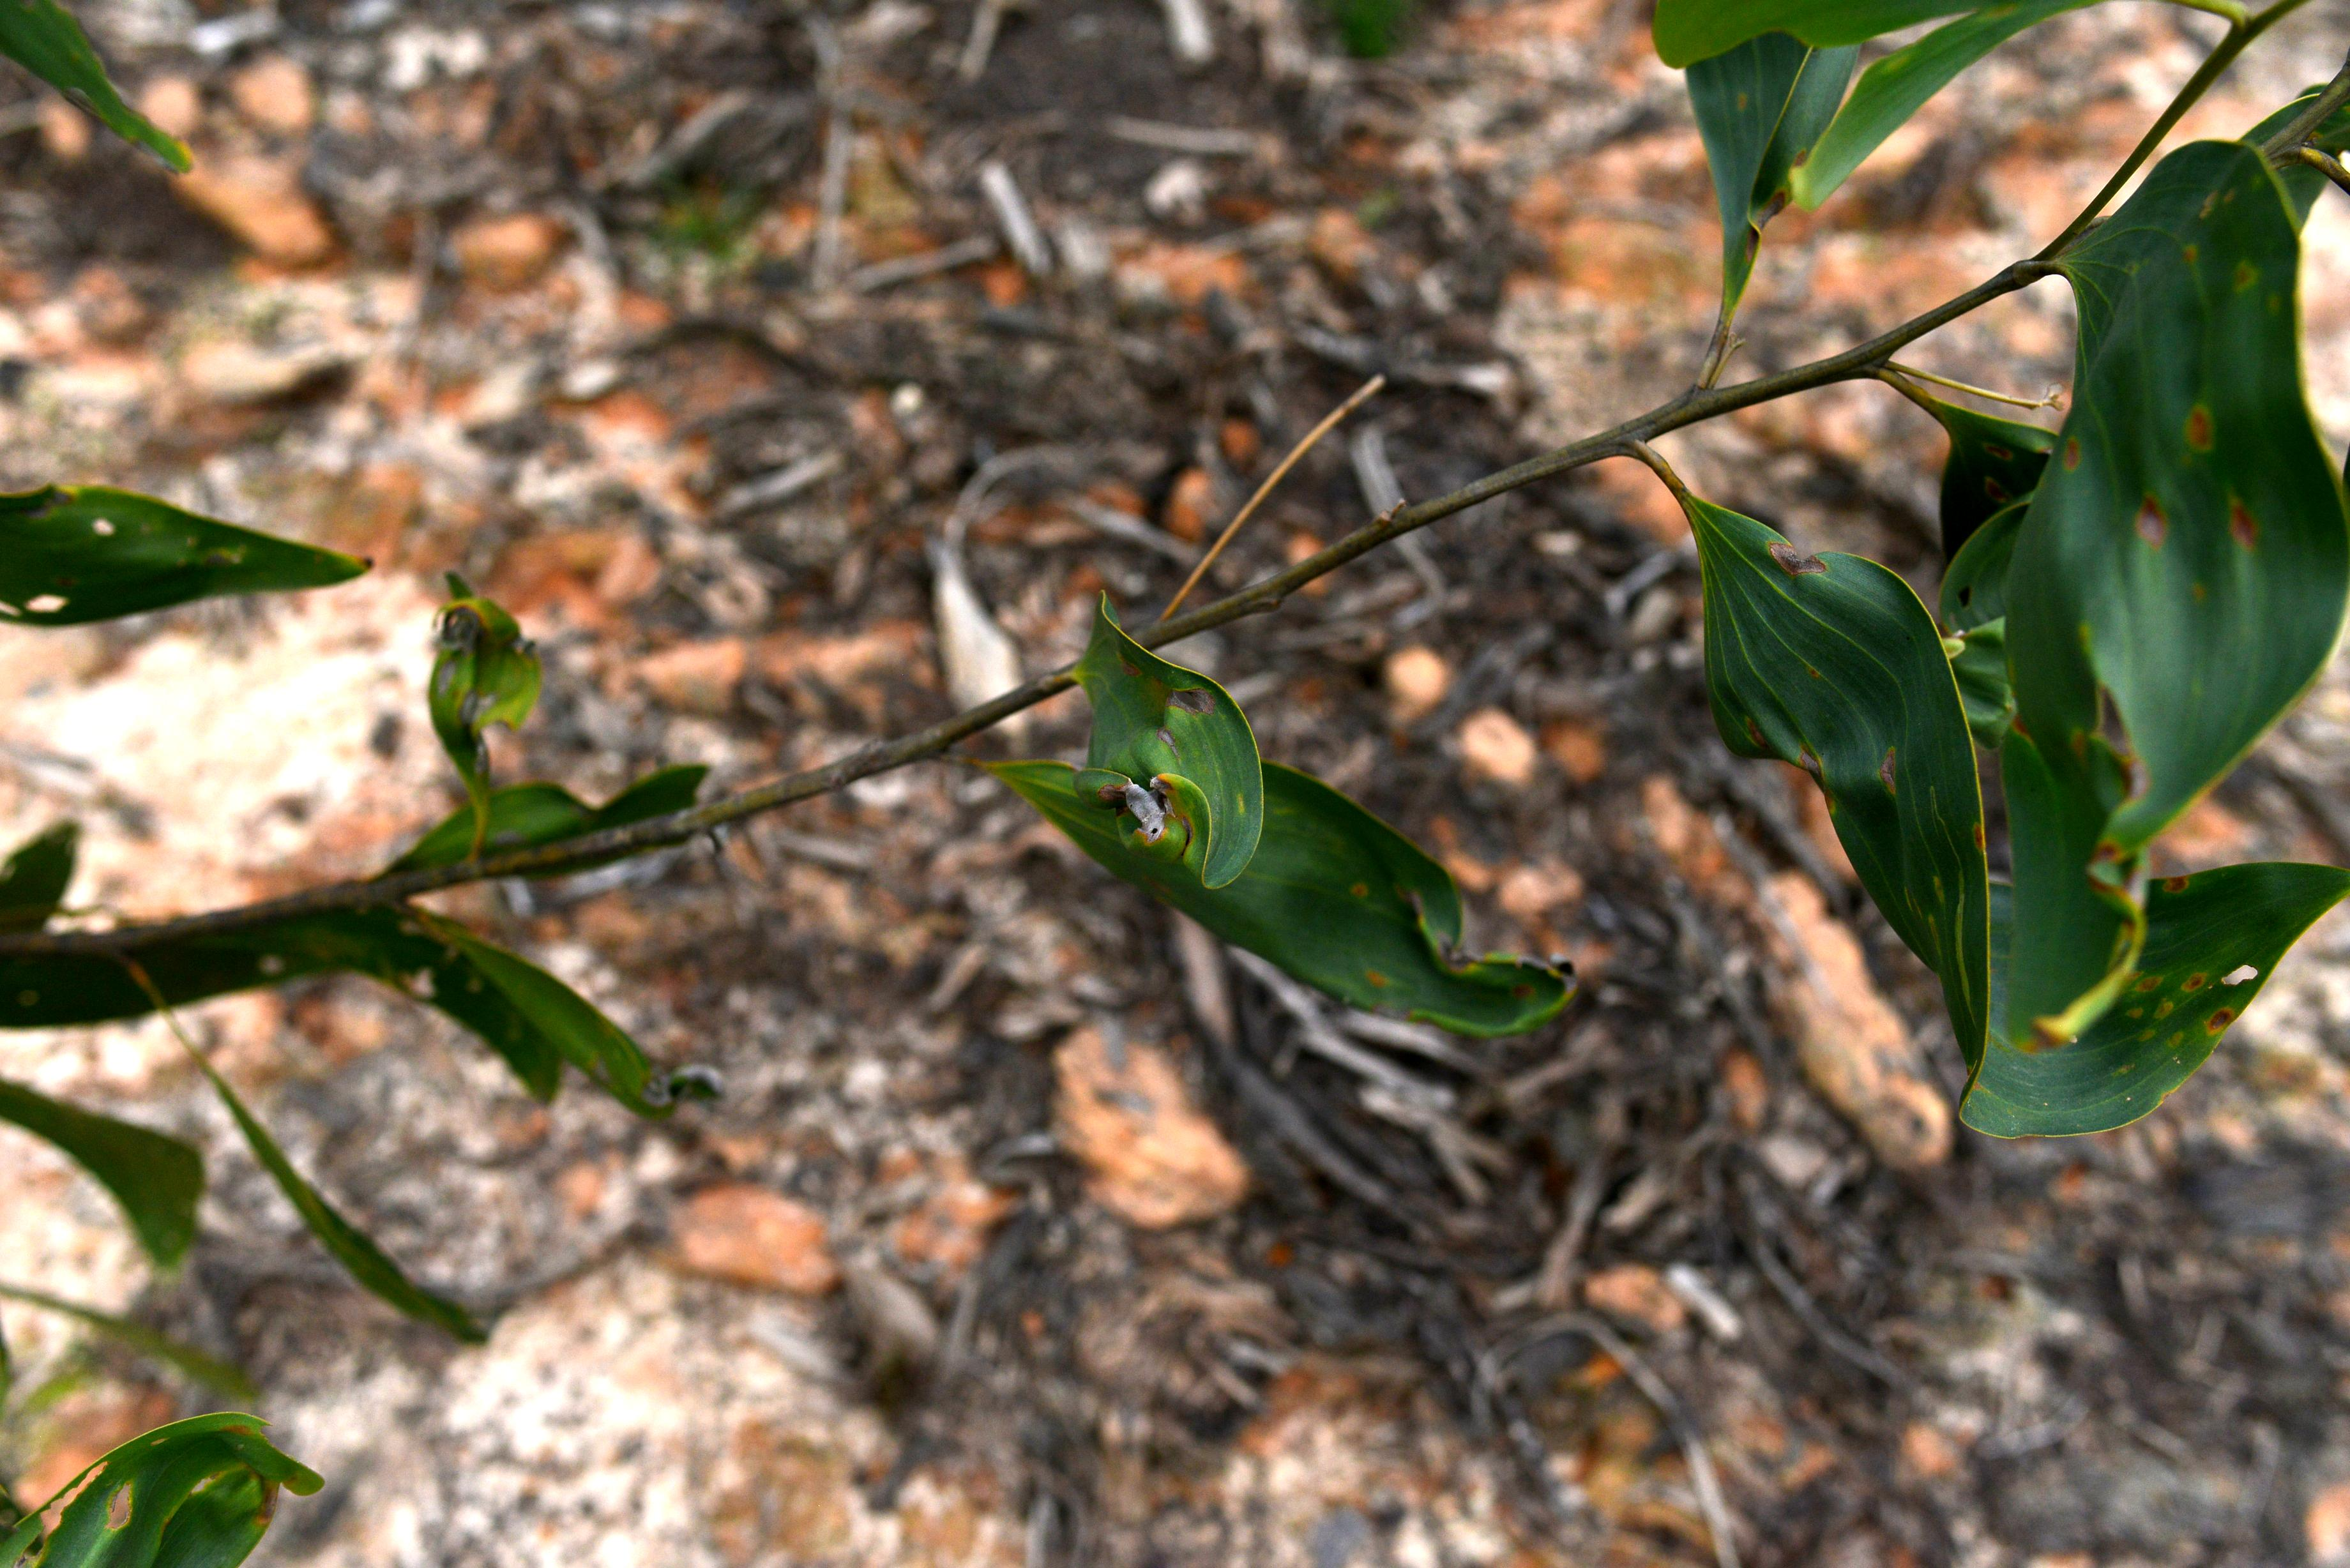Pasalora: (2063, 135, 2350, 1052), (1668, 471, 1997, 1108), (1652, 0, 1969, 402), (1949, 864, 2350, 1141), (1284, 756, 1591, 1038), (1057, 595, 1258, 880), (0, 1398, 331, 1568), (416, 549, 567, 822)
